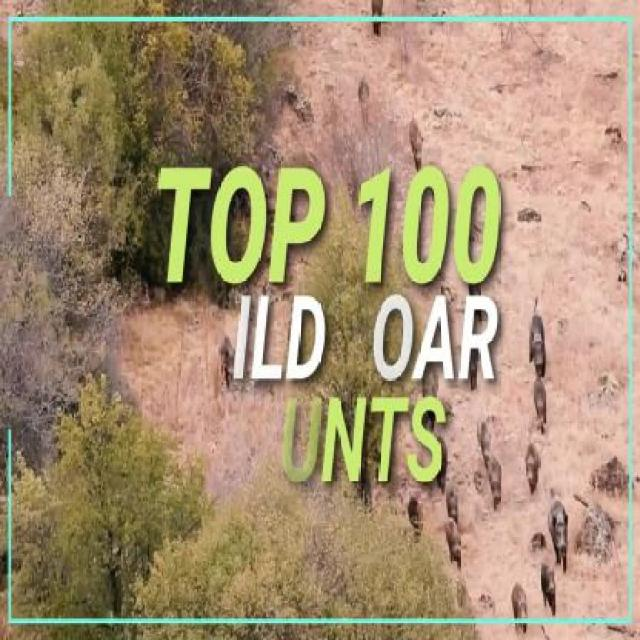pig: (512, 428, 550, 492), (522, 296, 552, 376), (545, 492, 573, 574), (438, 508, 467, 582), (480, 439, 504, 526), (400, 96, 428, 170), (528, 546, 558, 614), (504, 584, 538, 638), (346, 69, 376, 130), (526, 372, 556, 427), (215, 323, 237, 392), (437, 480, 464, 526), (472, 418, 497, 462)
